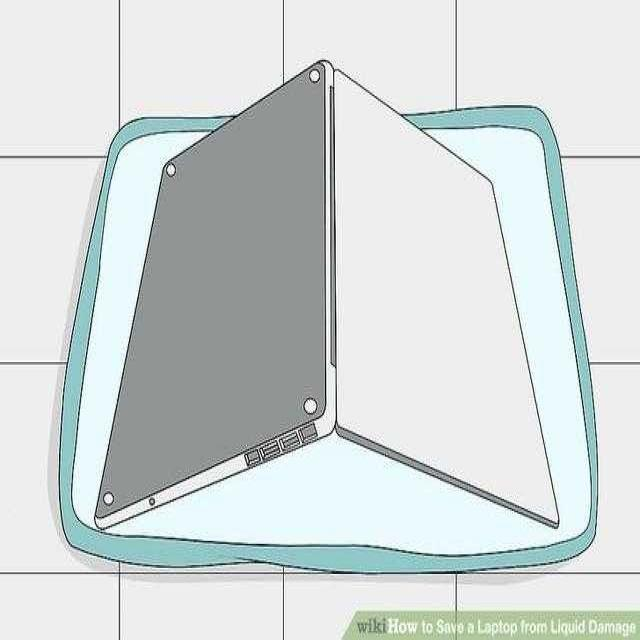laptop: (105, 60, 569, 524)
